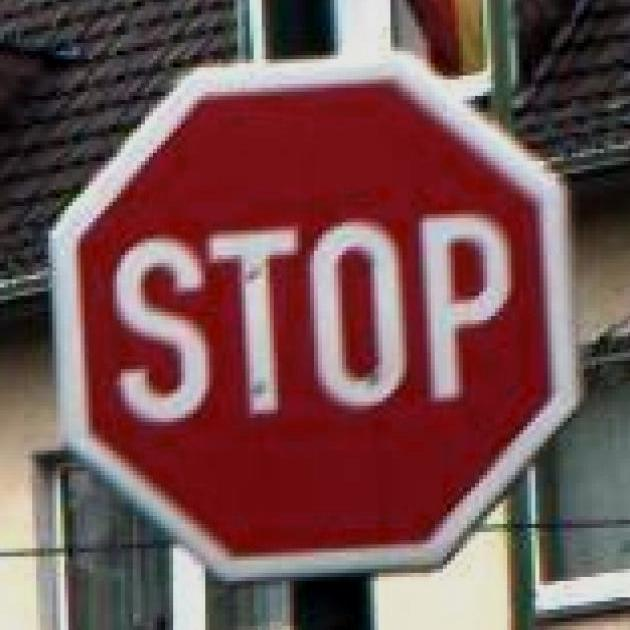stop_sign: (48, 51, 580, 581)
